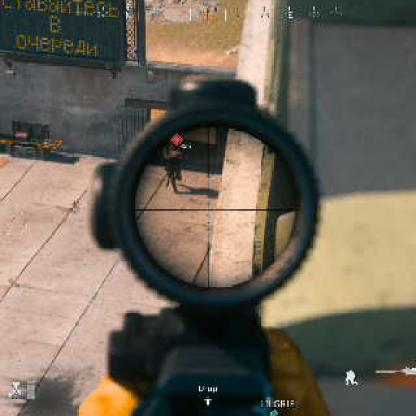enemy: (157, 132, 190, 190)
